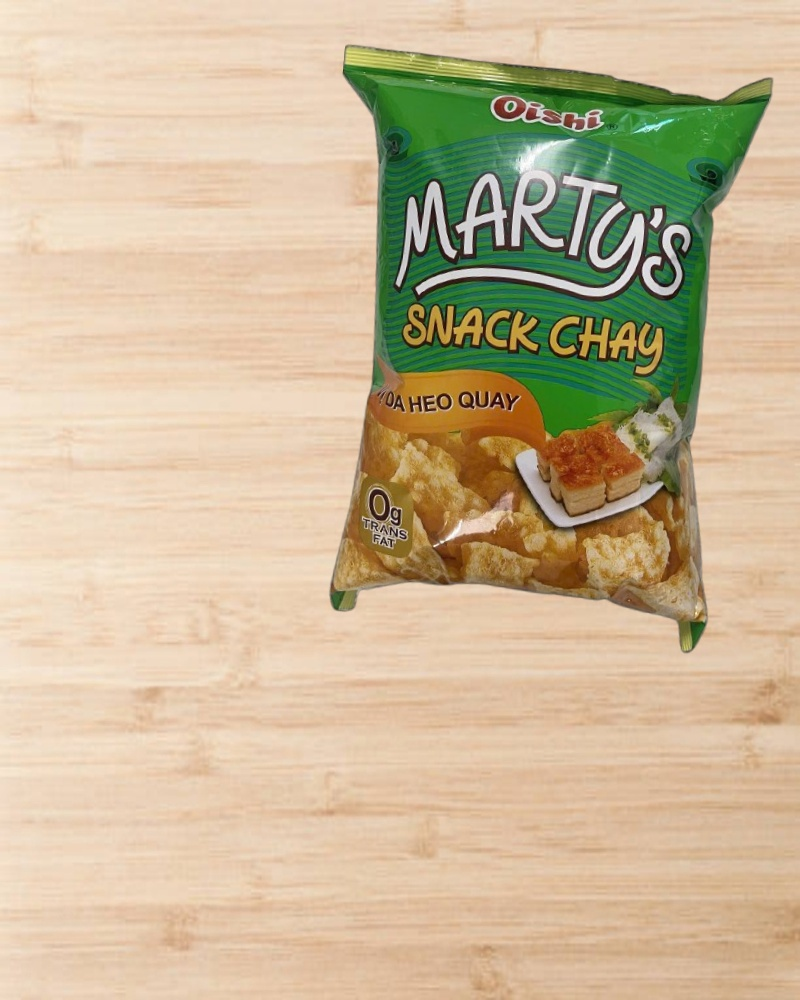Snack chay: (296, 41, 774, 657)
